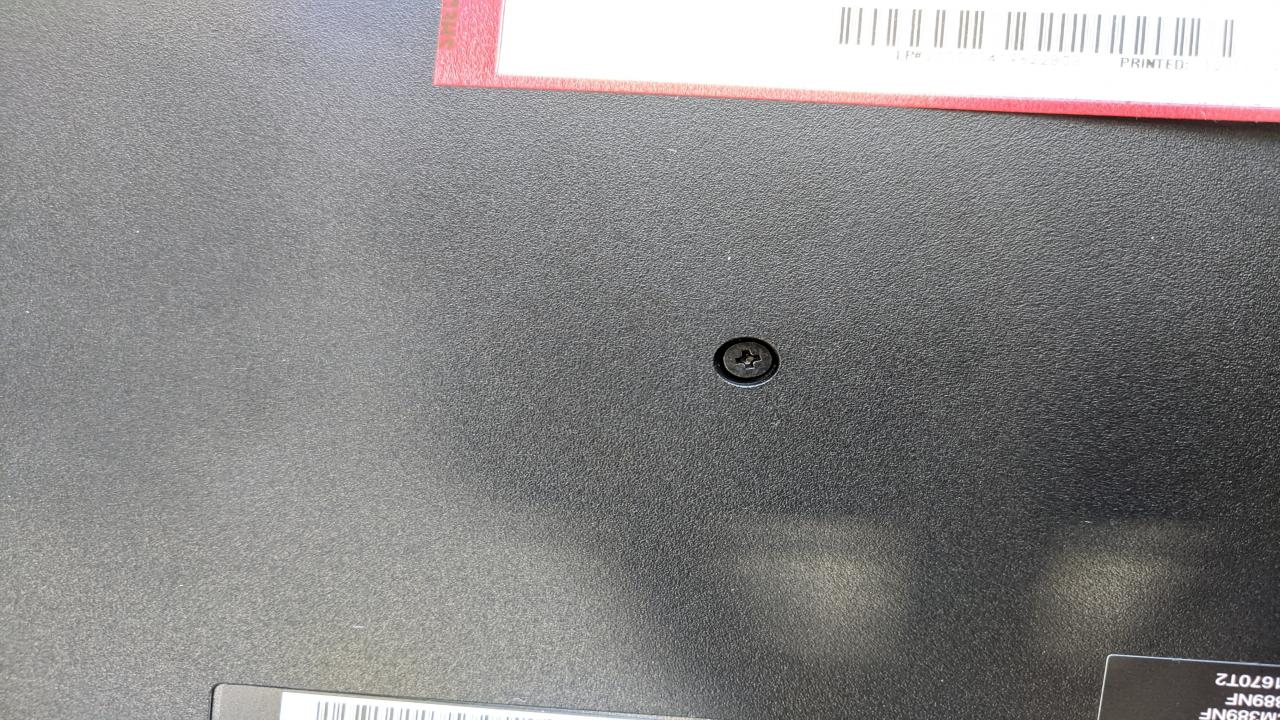CRS: (715, 336, 778, 380)
